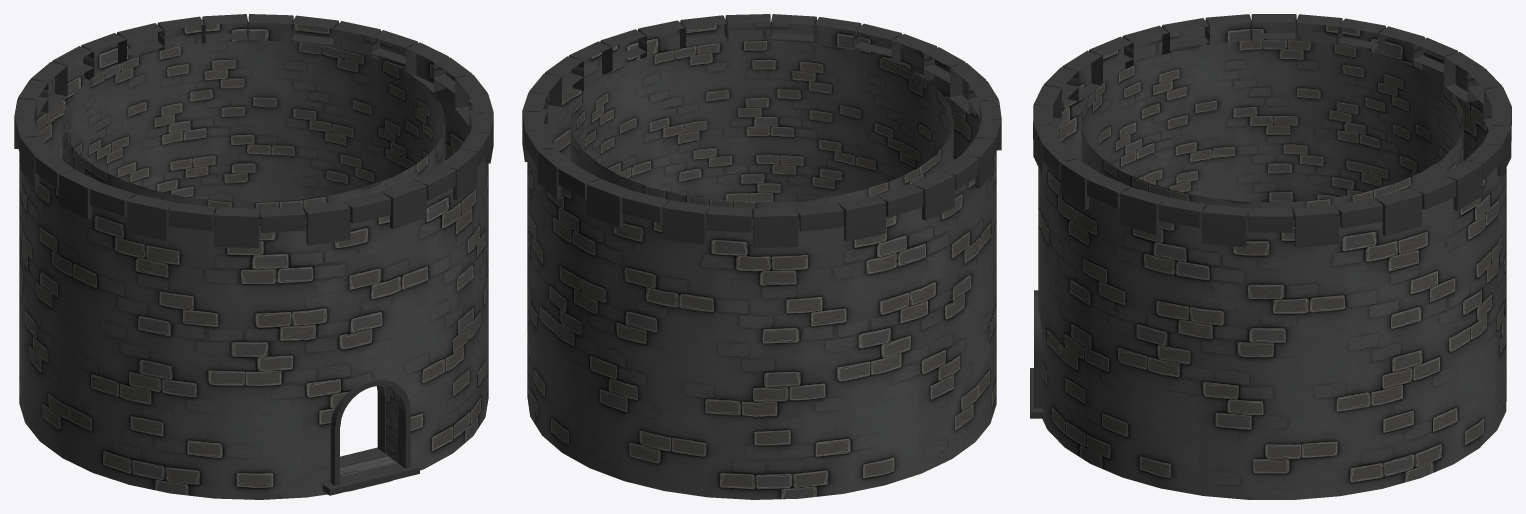
Rendered from SM_Tower_BaseDoor.FBX.
The picture shows the model from 3 angles, left to right: view 1: azimuth 30°, elevation 25°; view 2: azimuth 150°, elevation 25°; view 3: azimuth 270°, elevation 25°; orthographic projection.
Visible parts, largest first — view 1: SM_Tower_BaseDoor_LOD0; view 2: SM_Tower_BaseDoor_LOD0; view 3: SM_Tower_BaseDoor_LOD0.
Part boxes in pixels (x1=…): SM_Tower_BaseDoor_LOD0: x1=14, y1=14, x2=493, y2=499; SM_Tower_BaseDoor_LOD0: x1=522, y1=14, x2=1001, y2=499; SM_Tower_BaseDoor_LOD0: x1=1030, y1=14, x2=1511, y2=499.
Size of the model in its own units: 1536 by 1546 by 1013.
